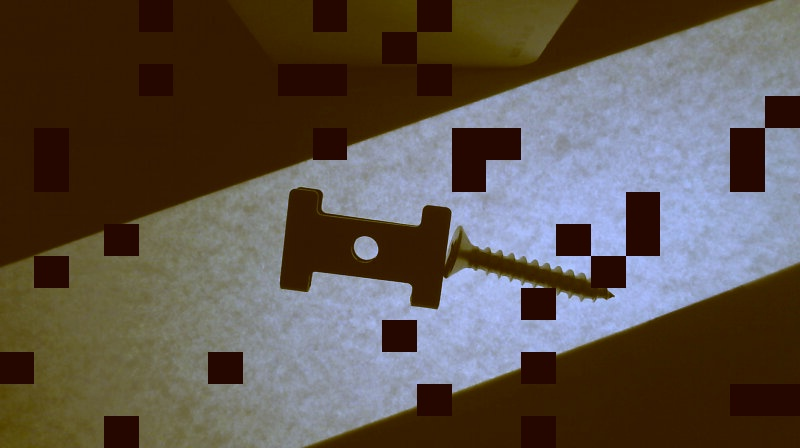O002: (276, 185, 451, 314)
S001: (440, 224, 617, 304)
